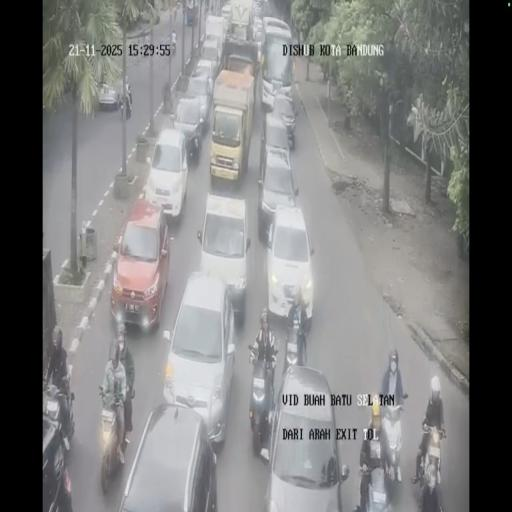3: (209, 66, 256, 184), (184, 1, 198, 26)
car: (161, 272, 236, 443), (263, 365, 348, 510), (111, 199, 171, 330), (198, 192, 251, 320), (144, 130, 190, 221), (258, 147, 298, 241), (172, 96, 206, 160), (262, 16, 292, 77), (272, 91, 297, 151), (200, 38, 222, 76), (251, 14, 264, 46), (221, 2, 232, 27)
truck: (359, 416, 397, 511), (98, 376, 129, 492), (247, 346, 277, 458), (412, 424, 446, 510), (283, 310, 309, 374), (120, 82, 132, 118), (170, 37, 176, 55)
